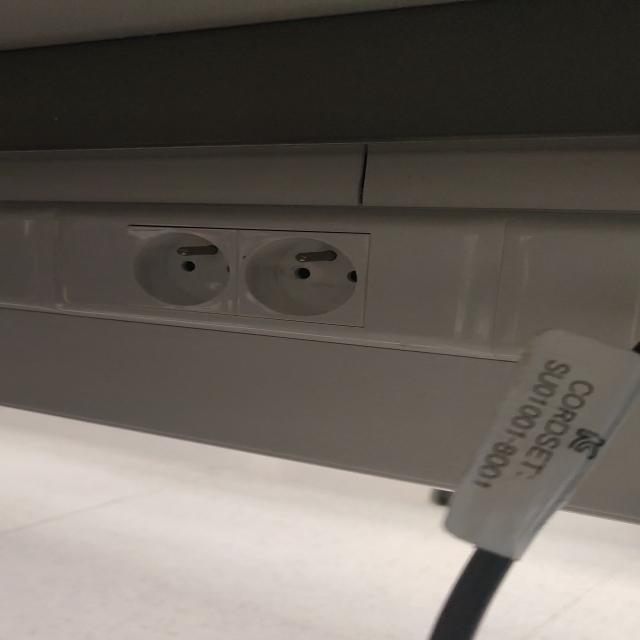house plug: (123, 222, 240, 318)
